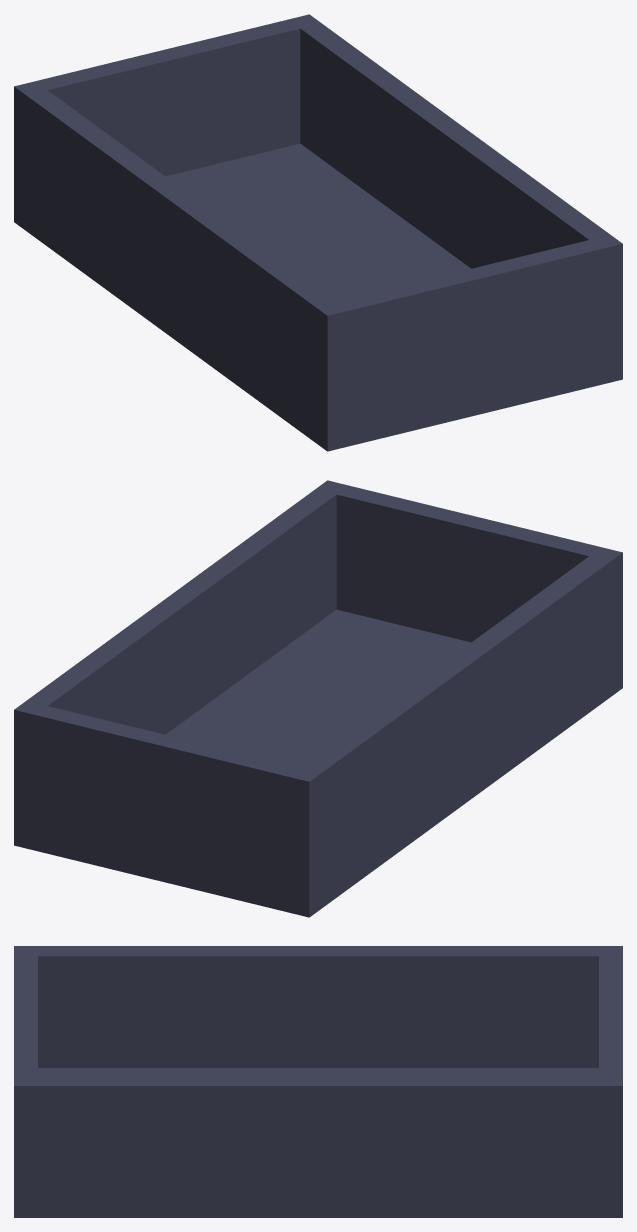
The model's file is Information booth.fbx.
3 views of the same model, one above another, from view 1: azimuth 30°, elevation 25°; view 2: azimuth 150°, elevation 25°; view 3: azimuth 270°, elevation 25° (orthographic). The views are drawn at different scales.
Visible parts, largest first — view 1: Information booth; view 2: Information booth; view 3: Information booth.
Part boxes in pixels (<box>): Information booth: <box>14,14,622,451</box>; Information booth: <box>14,480,622,917</box>; Information booth: <box>14,946,622,1217</box>.
Size of the model in its own units: 200 by 87.78 by 368.
